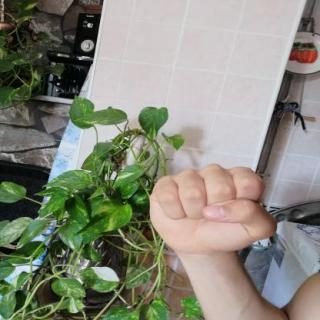SAD: (133, 157, 286, 265)
